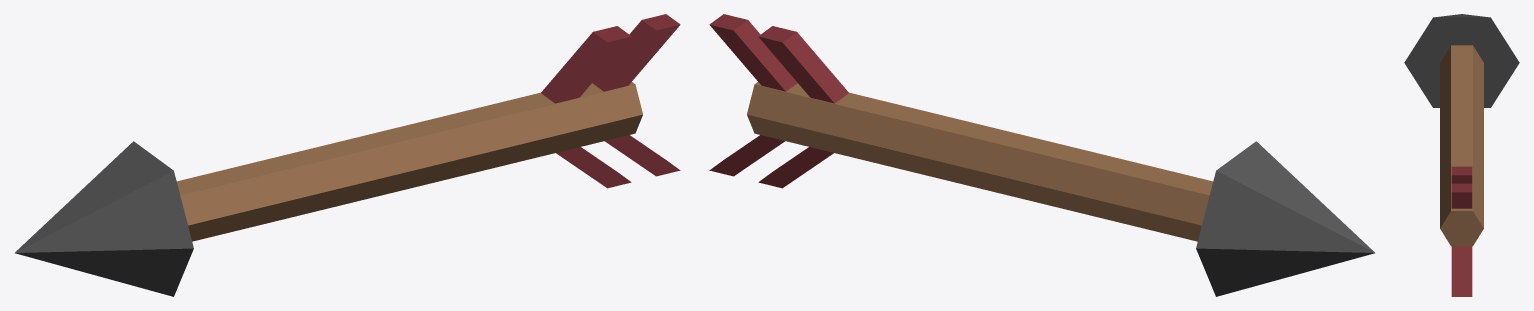
Rendered from Arrow.fbx.
The picture shows the model from 3 angles, left to right: view 1: azimuth 30°, elevation 25°; view 2: azimuth 150°, elevation 25°; view 3: azimuth 270°, elevation 25°; orthographic projection. The views are drawn at different scales.
Parts seen in each view (by area): view 1: Cylinder, Cone, Cube; view 2: Cylinder, Cone, Cube; view 3: Cylinder, Cone, Cube.
Part boxes in pixels (left/top/right/bottom): Cylinder: left=176, top=82, right=642, bottom=241; Cone: left=15, top=141, right=193, bottom=296; Cube: left=541, top=14, right=680, bottom=188; Cylinder: left=747, top=82, right=1213, bottom=241; Cone: left=1196, top=141, right=1374, bottom=296; Cube: left=709, top=14, right=848, bottom=188; Cylinder: left=1440, top=45, right=1483, bottom=246; Cone: left=1404, top=14, right=1519, bottom=107; Cube: left=1451, top=166, right=1472, bottom=296.
Bounding box in the file's own units: 945 × 200 × 200.
